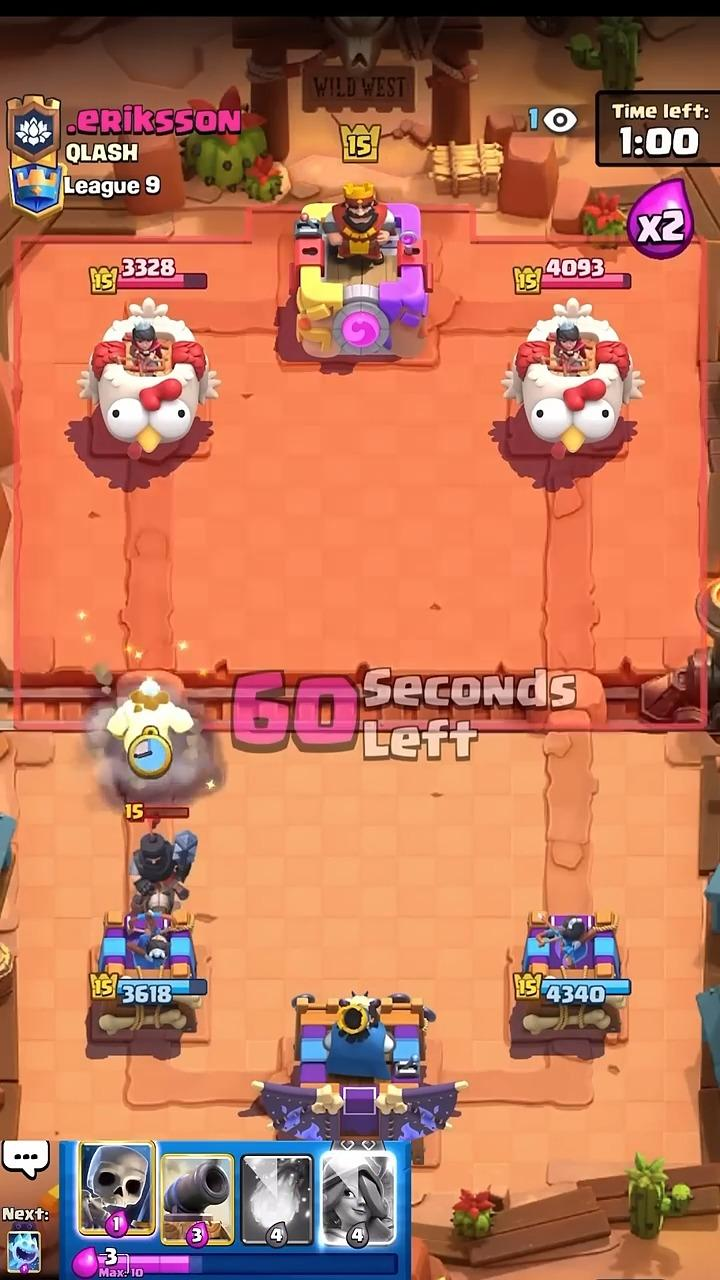dark prince: (130, 830, 195, 913)
ice golem: (108, 678, 193, 748)
